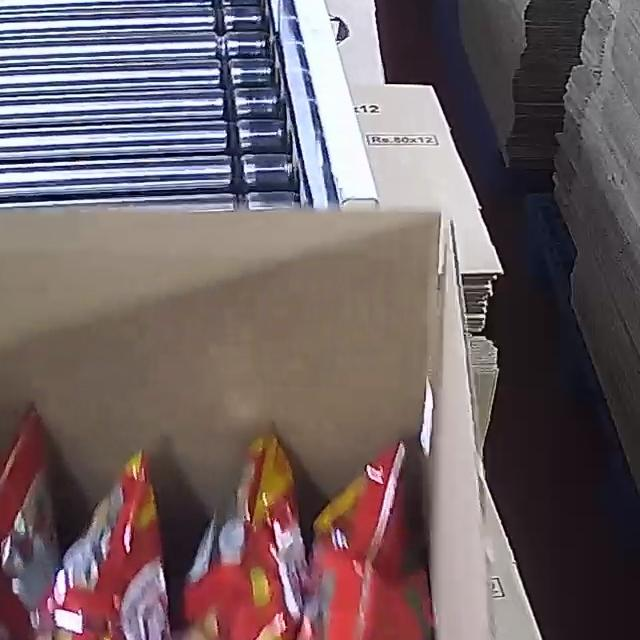masala: (0, 404, 442, 640)
